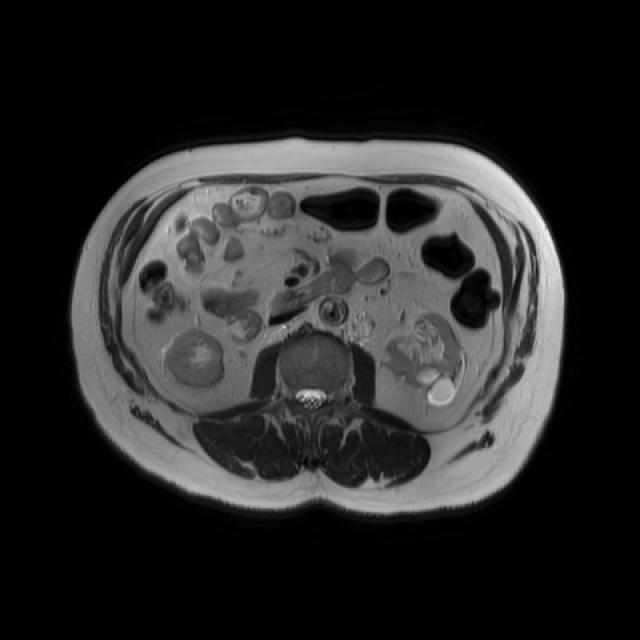sag: (164, 328, 223, 387)
sol: (381, 311, 464, 407)
